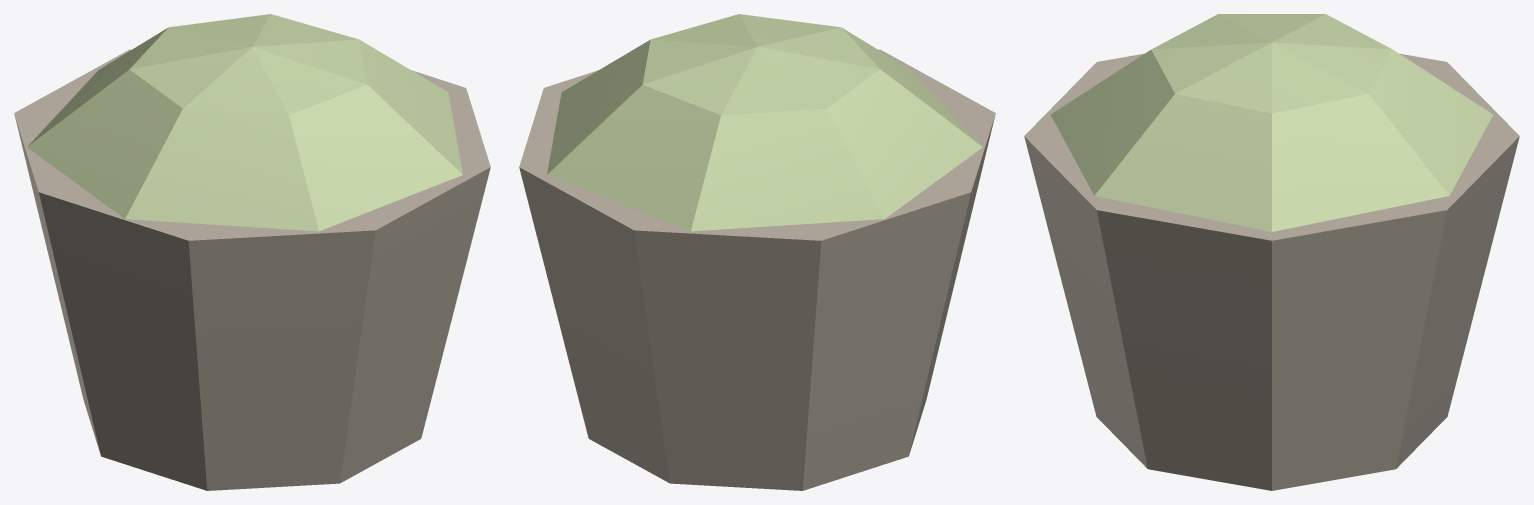
File: herb_basket_0.glb
The picture shows the model from 3 angles, left to right: view 1: azimuth 30°, elevation 25°; view 2: azimuth 150°, elevation 25°; view 3: azimuth 270°, elevation 25°; orthographic projection.
Parts seen in each view (by area): view 1: basket; view 2: basket; view 3: basket.
Boxes of the visible parts, bbox=[...] form: basket: bbox=[14, 14, 490, 490]; basket: bbox=[519, 14, 995, 490]; basket: bbox=[1024, 14, 1519, 490].
Bounding box in the file's own units: 0.48 × 0.4 × 0.48.
